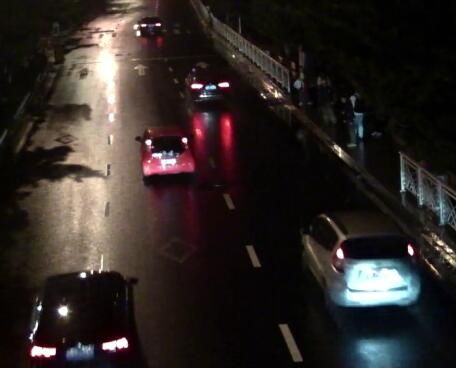car: (301, 209, 423, 313), (26, 270, 139, 364), (135, 126, 198, 184), (185, 66, 231, 104), (133, 15, 165, 35)
